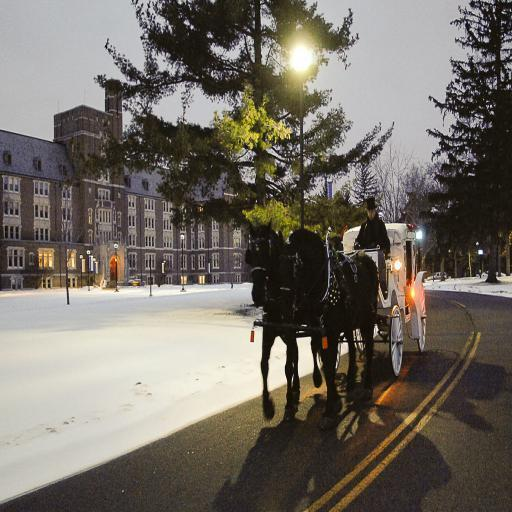horse: (278, 228, 380, 414), (249, 218, 323, 422)
